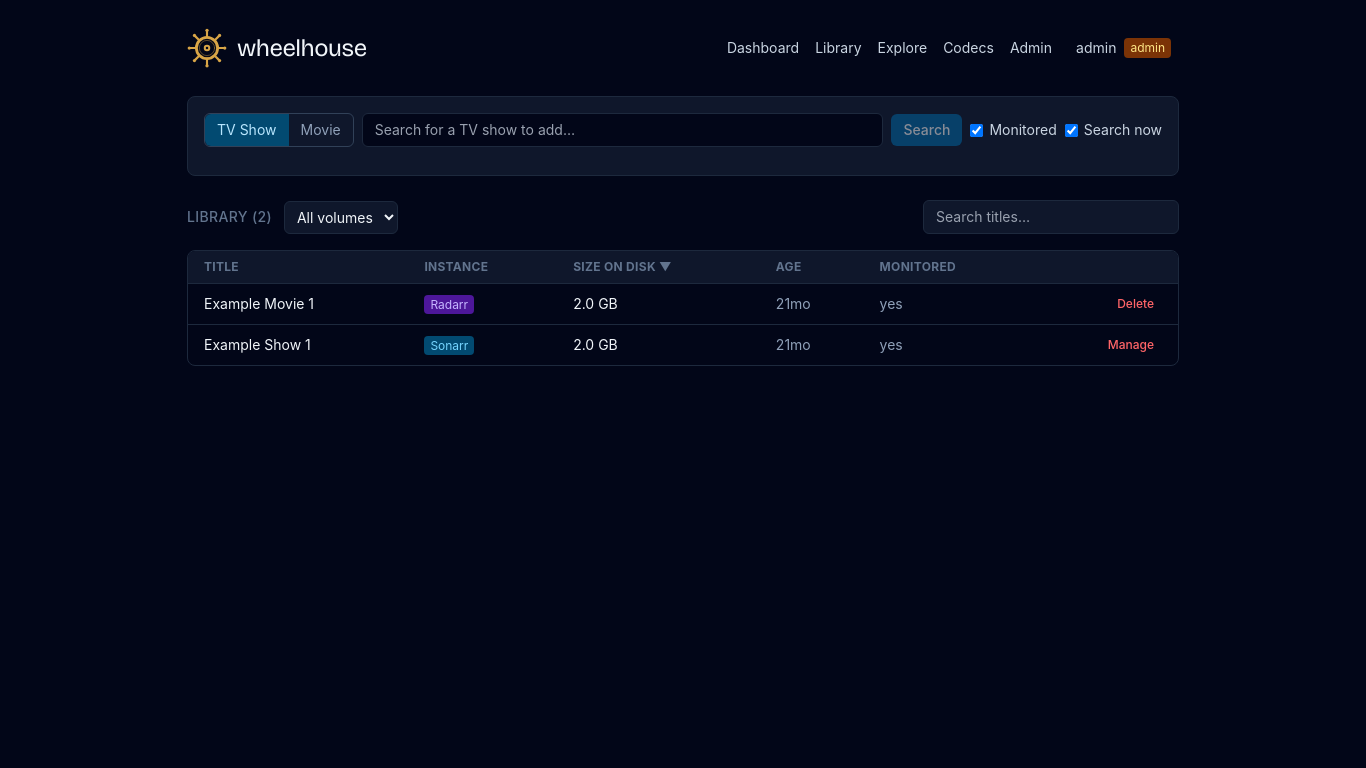
Test: deleting a movie › shows the server's refusal and keeps the item
Click the button "Delete".
click(1136, 304)  # box x1=1109 y1=292 x2=1162 y2=316
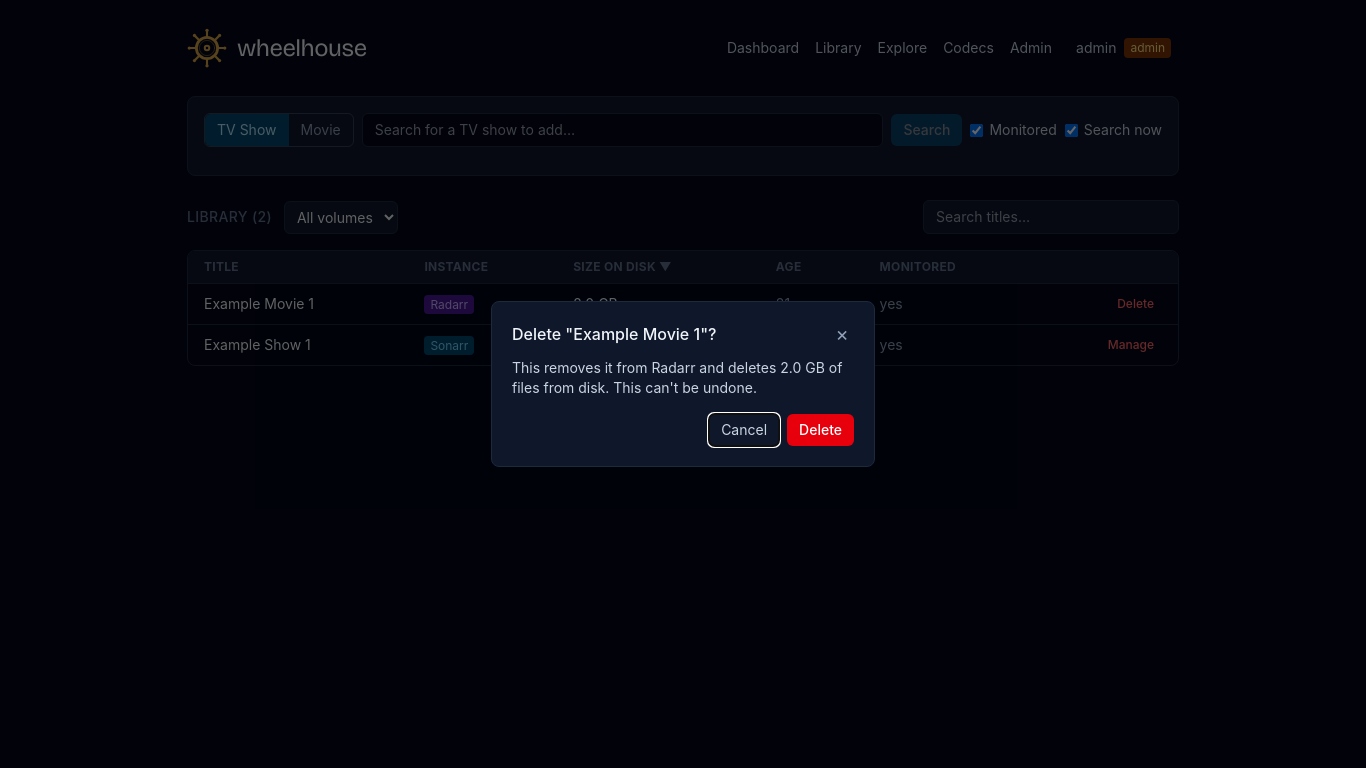
Click the button "Delete".
click(821, 430)  # box x1=787 y1=414 x2=854 y2=446
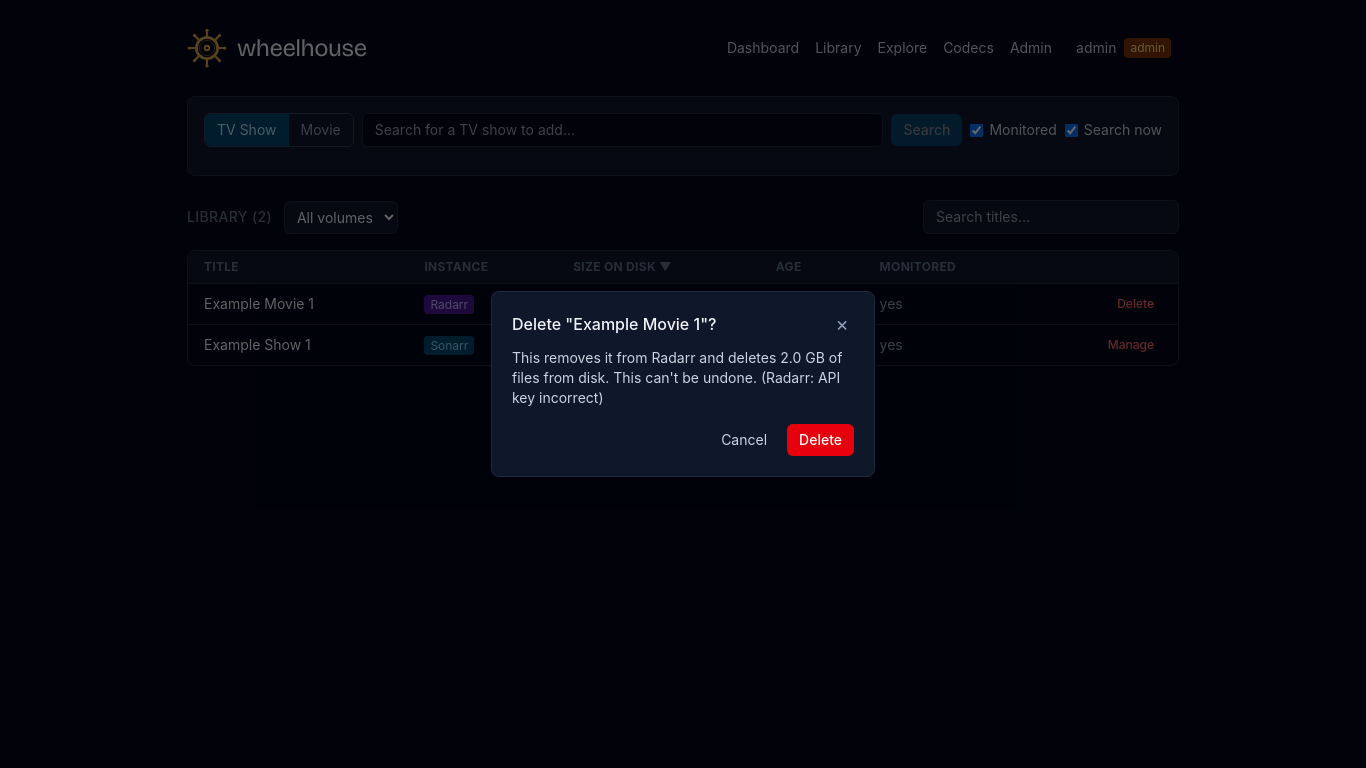
Expected: the button "Example Movie 1" is shown, x1=204 y1=294 x2=314 y2=314
Result: the text "Radarr: API key incorrect" is shown at x1=512 y1=349 x2=842 y2=406
